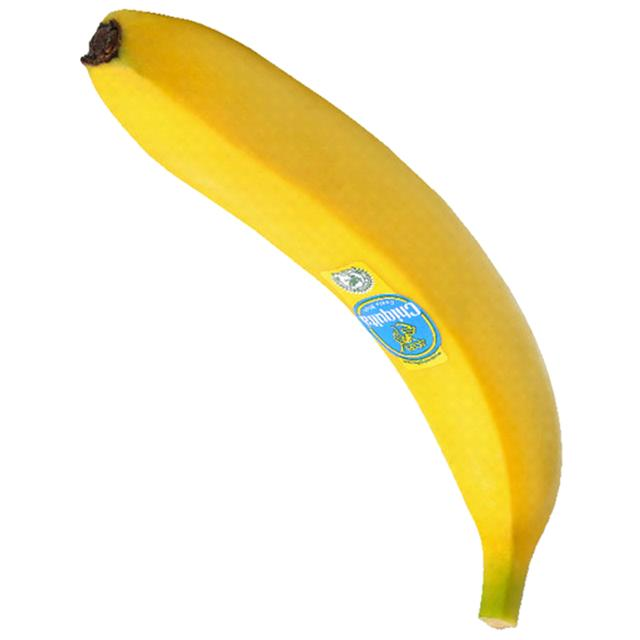Bananas: (81, 9, 563, 628)
